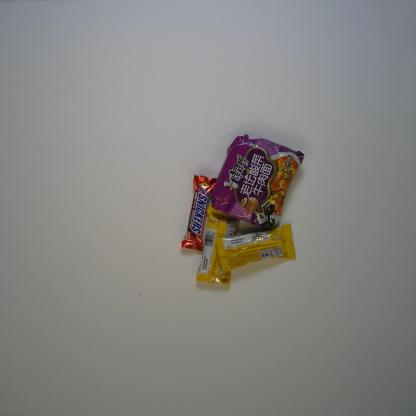Chocolate: (214, 223, 298, 274), (195, 203, 241, 290), (179, 172, 218, 252)
Instant Noodles: (210, 132, 306, 232)
